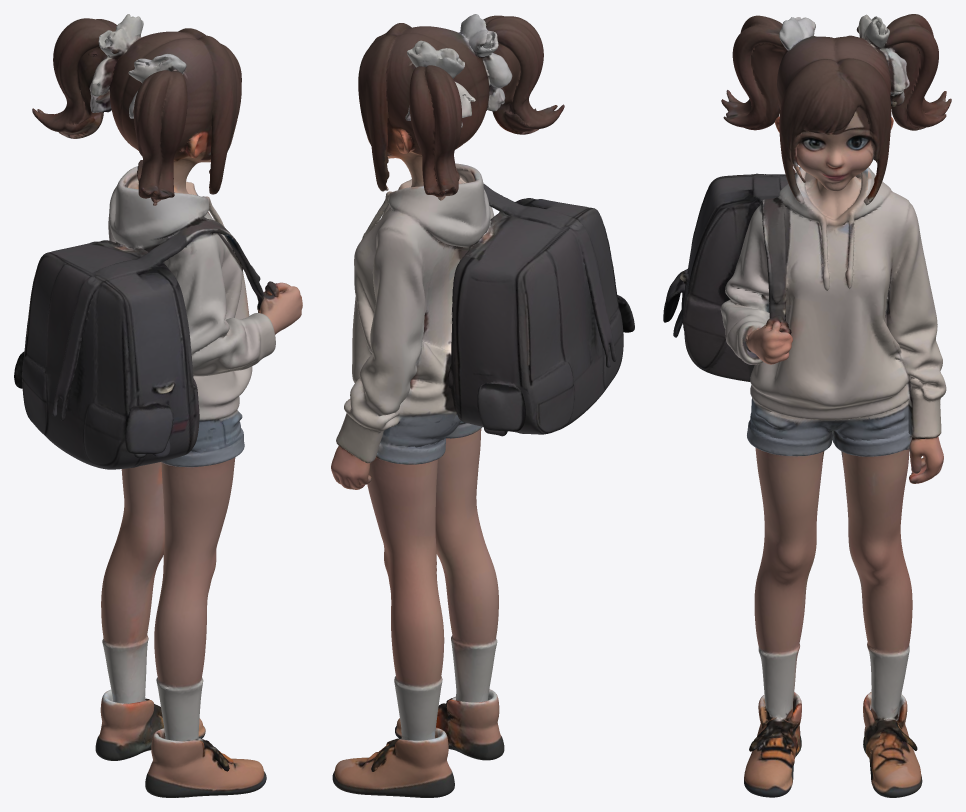
The model's file is anime_girl_character.glb.
3 views of the same model, side by side, from view 1: azimuth 30°, elevation 25°; view 2: azimuth 150°, elevation 25°; view 3: azimuth 270°, elevation 25° (orthographic).
Parts seen in each view (by area): view 1: tripo_node_d3025a2b-5c71-4195-a907-b19f12656e3d_0; view 2: tripo_node_d3025a2b-5c71-4195-a907-b19f12656e3d_0; view 3: tripo_node_d3025a2b-5c71-4195-a907-b19f12656e3d_0.
Boxes of the visible parts, box(x1,y1,x2,y2) form: tripo_node_d3025a2b-5c71-4195-a907-b19f12656e3d_0: box(14, 14, 302, 797); tripo_node_d3025a2b-5c71-4195-a907-b19f12656e3d_0: box(331, 14, 634, 797); tripo_node_d3025a2b-5c71-4195-a907-b19f12656e3d_0: box(663, 14, 951, 797).
Size of the model in its own units: 0.3507 by 1 by 0.3516.
1 material, 1 textured.
